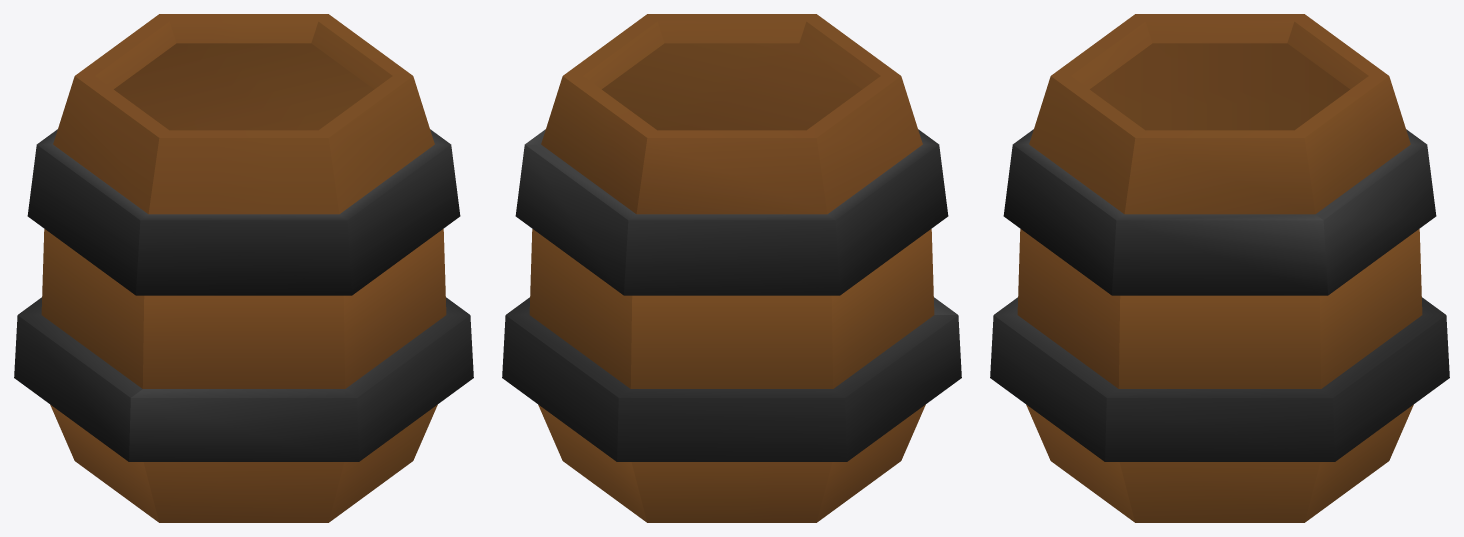
The model's file is barrel.glb.
3 views of the same model, side by side, from view 1: azimuth 30°, elevation 25°; view 2: azimuth 150°, elevation 25°; view 3: azimuth 270°, elevation 25° (orthographic).
Parts seen in each view (by area): view 1: barrel; view 2: barrel; view 3: barrel.
Part boxes in pixels (left/top/right/bottom): barrel: left=14, top=14, right=473, bottom=522; barrel: left=502, top=14, right=961, bottom=522; barrel: left=990, top=14, right=1449, bottom=522.
Bounding box in the file's own units: 7.76 × 8.28 × 8.96.
Materials: 1 (1 with a texture image).
